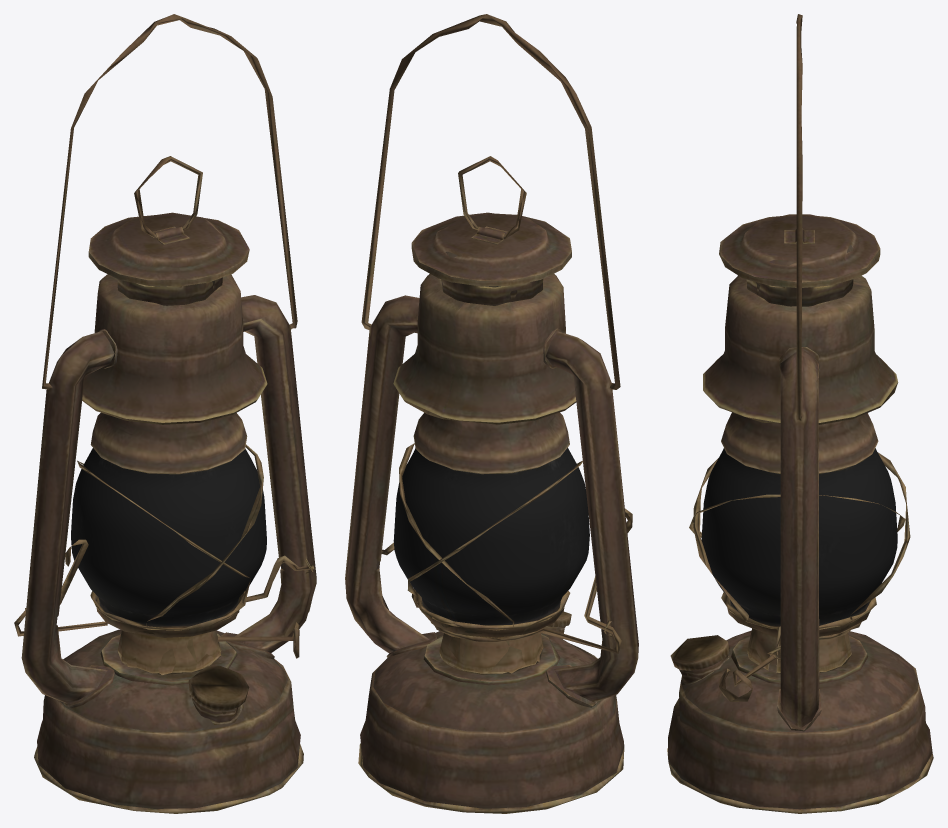
File: lanterne.glb
3 renders of one model, left to right at view 1: azimuth 30°, elevation 25°; view 2: azimuth 150°, elevation 25°; view 3: azimuth 270°, elevation 25°, orthographic.
Visible parts, largest first — view 1: Lantern_01, Lantern_01_glass; view 2: Lantern_01, Lantern_01_glass; view 3: Lantern_01, Lantern_01_glass.
Part boxes in pixels (<box>): Lantern_01: <box>14,14,316,813</box>; Lantern_01_glass: <box>71,448,266,626</box>; Lantern_01: <box>345,14,638,813</box>; Lantern_01_glass: <box>393,447,589,625</box>; Lantern_01: <box>667,14,933,813</box>; Lantern_01_glass: <box>701,448,897,626</box>.
Bounding box in the file's own units: 0.1219 × 0.2939 × 0.0958.
Materials: 2 (2 with a texture image).
